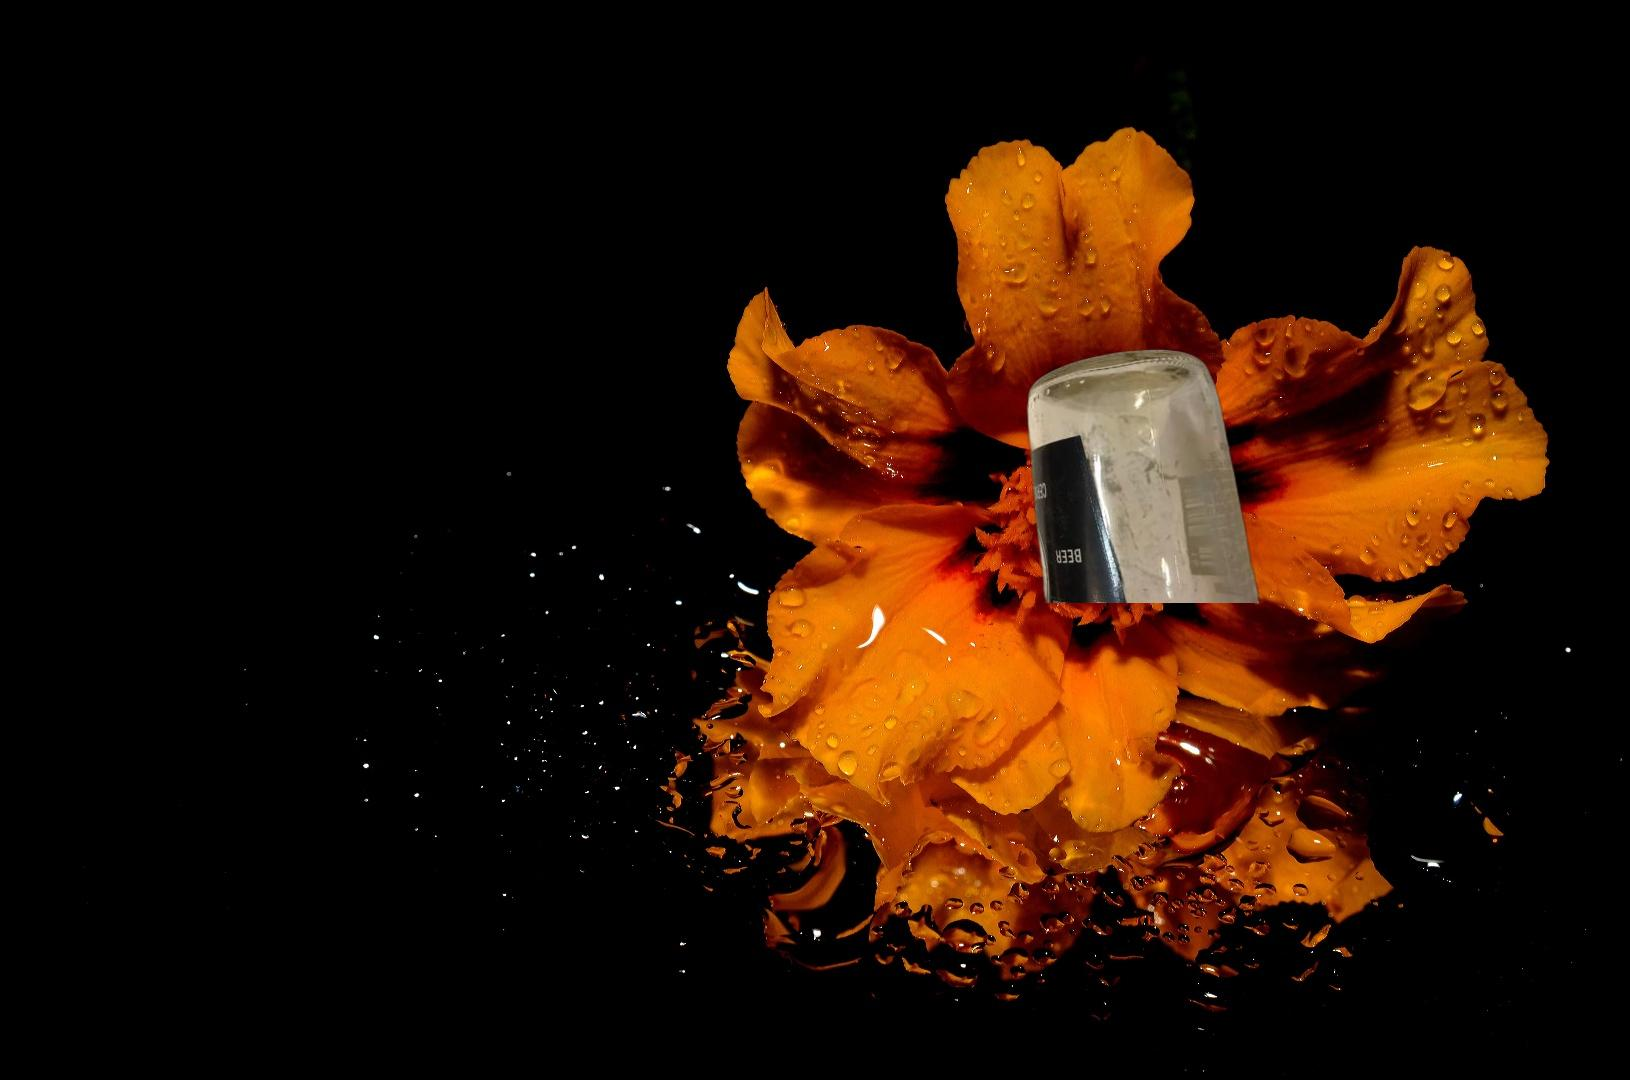glass: (1023, 346, 1263, 603)
